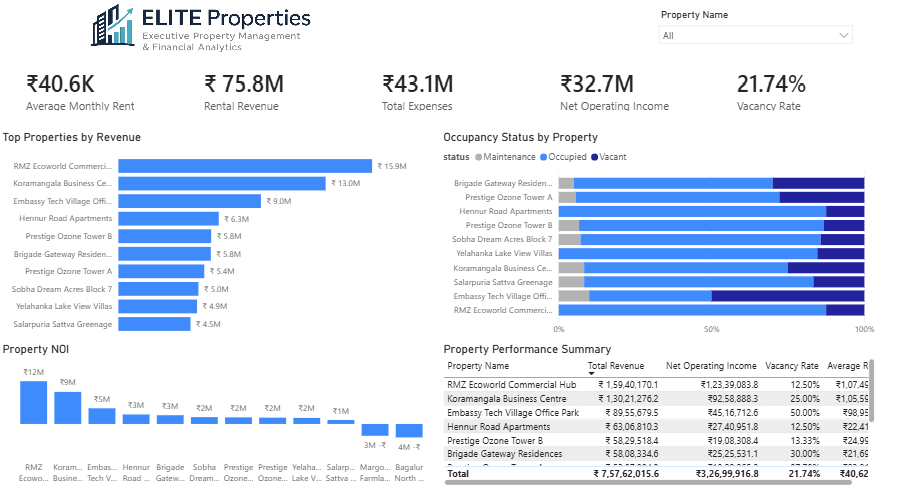

The page's visual inventory and layout, read from the dashboard file:
{"tool":"powerbi","page":{"name":"Property Performance Analytics","canvas":[1280,720],"ordinal":1},"visuals":[{"type":"cardVisual","fields":{"Data":["All Measures.Average Rent"]},"box":[10.1,83.5,220,95],"z":0},{"type":"cardVisual","fields":{"Data":["All Measures.Total Revenue"]},"box":[267.8,83.5,220,95],"z":1000},{"type":"cardVisual","fields":{"Data":["All Measures.Total Expenses"]},"box":[525.6,83.5,220,95],"z":2000},{"type":"cardVisual","fields":{"Data":["All Measures.NOI"]},"box":[783.4,83.5,220,95],"z":3000},{"type":"cardVisual","fields":{"Data":["All Measures.Vacancy Rate %"]},"box":[1041.1,83.5,220,95],"z":4000},{"type":"clusteredBarChart","title":"Top Properties by Revenue","fields":{"Category":["dim properties.name"],"Y":["All Measures.Total Revenue"]},"box":[0,190.1,639.4,306.7],"z":5000},{"type":"clusteredColumnChart","title":"Property NOI","fields":{"Category":["dim properties.name"],"Y":["All Measures.NOI"]},"box":[0,496.8,639.4,213.1],"z":6000},{"type":"hundredPercentStackedBarChart","title":"Occupancy Status by Property","fields":{"Category":["dim properties.name"],"Series":["dim units.status"],"Y":["CountNonNull(dim units.unit_id)"]},"box":[639.4,190.1,635,306.7],"z":7000},{"type":"tableEx","title":"Property Performance Summary","fields":{"Values":["dim properties.name","All Measures.Total Revenue","All Measures.NOI","All Measures.Vacancy Rate %","All Measures.Average Rent"]},"box":[639.4,496.8,635,213.1],"z":8000},{"type":"image","box":[0,0,586.1,106.6],"z":9000},{"type":"slicer","fields":{"Values":["dim properties.name"]},"box":[946.1,10.1,301,106.6],"z":10000}]}

Visuals, with their boxes in screenshot pixels (x1, y1, x2, y2), scaled from the page's 1280x720 canvas onto the 898x504 screenshot:
cardVisual - All Measures.Average Rent: x1=7 y1=58 x2=161 y2=125
cardVisual - All Measures.Total Revenue: x1=188 y1=58 x2=342 y2=125
cardVisual - All Measures.Total Expenses: x1=369 y1=58 x2=523 y2=125
cardVisual - All Measures.NOI: x1=550 y1=58 x2=704 y2=125
cardVisual - All Measures.Vacancy Rate %: x1=730 y1=58 x2=885 y2=125
"Top Properties by Revenue" clusteredBarChart: x1=0 y1=133 x2=449 y2=348
"Property NOI" clusteredColumnChart: x1=0 y1=348 x2=449 y2=497
"Occupancy Status by Property" hundredPercentStackedBarChart: x1=449 y1=133 x2=894 y2=348
"Property Performance Summary" tableEx: x1=449 y1=348 x2=894 y2=497
image: x1=0 y1=0 x2=411 y2=75
slicer - dim properties.name: x1=664 y1=7 x2=875 y2=82
